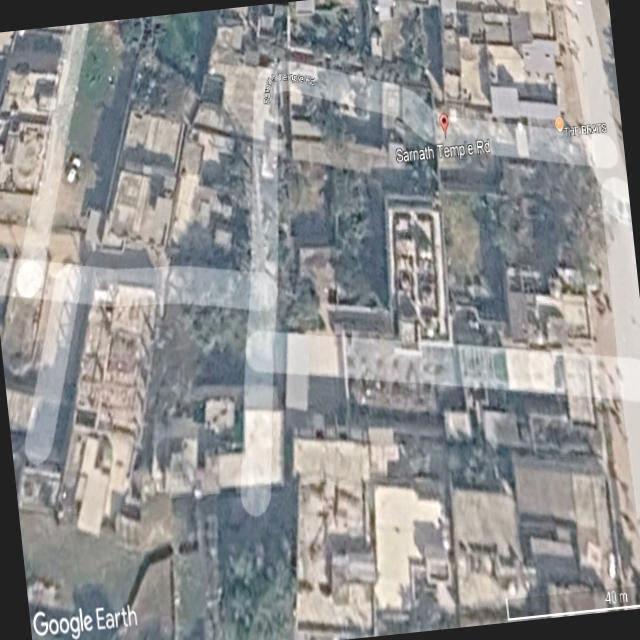objects-ruins-artifacts: (44, 76, 365, 329), (440, 112, 605, 452)
